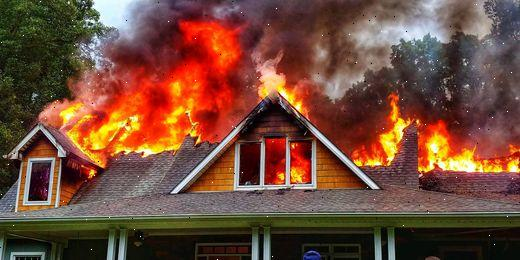fire: (122, 81, 212, 154), (419, 127, 519, 177), (169, 17, 237, 81), (63, 99, 120, 152), (353, 105, 404, 161), (268, 75, 314, 121), (265, 146, 304, 184)
smoke: (420, 3, 518, 145), (226, 0, 419, 68), (104, 1, 191, 80), (315, 69, 352, 157), (35, 81, 80, 134), (213, 84, 260, 134), (64, 65, 104, 123)
